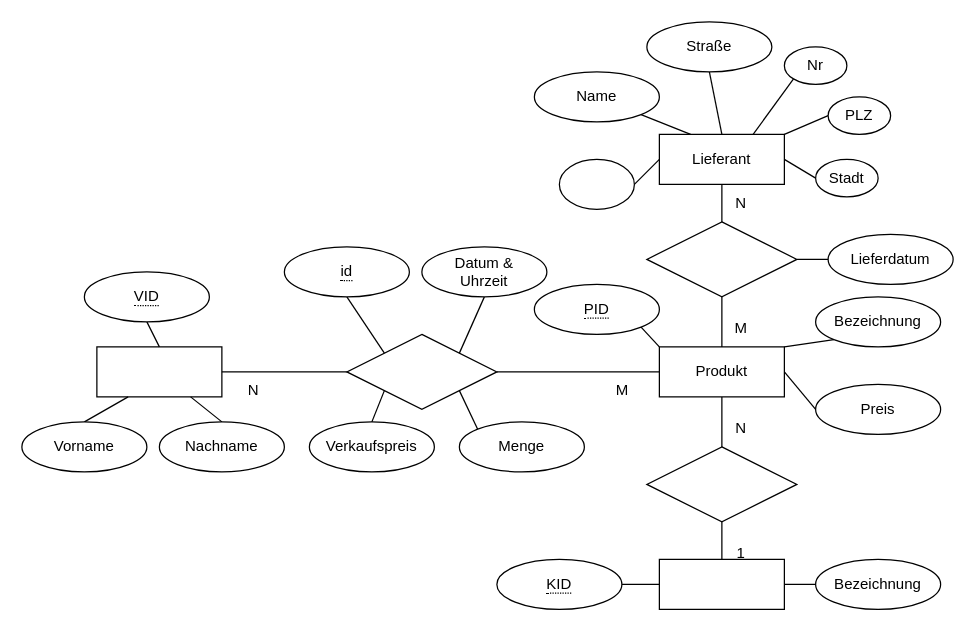
Some shapes in this 975 by 631 pixel diagram are drawn without their labels. The shapes that lost their labels are listed below. From the top down, each one's box as (x1, y1, x2, y2) in pixels, then its label:
(558, 158, 634, 209): LID
(646, 221, 797, 297): liefert
(96, 346, 222, 397): Verkäufer
(346, 333, 497, 409): verkauft
(646, 446, 797, 522): gehört zu
(658, 558, 784, 609): Kategorie
